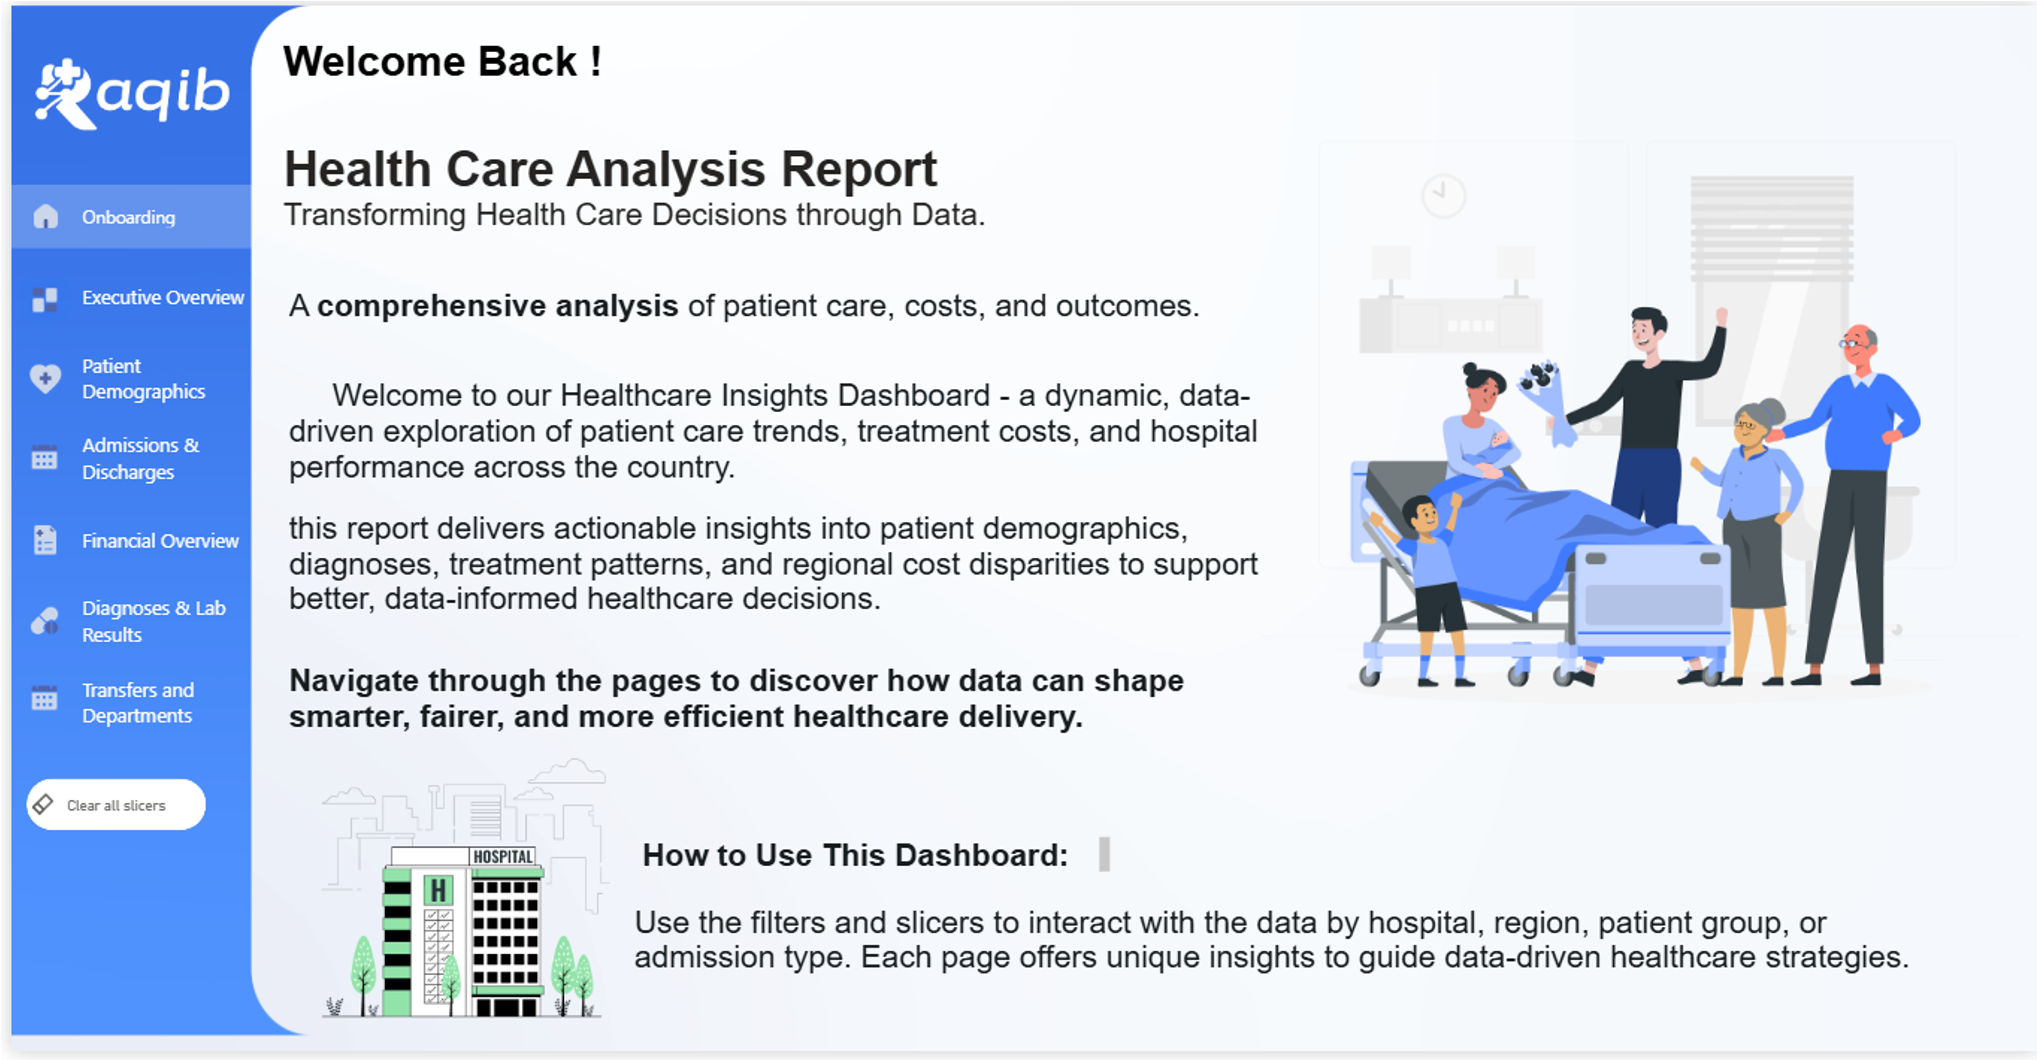

Layout of this report page (visuals, bound fields, positions):
{"tool":"powerbi","page":{"name":"Onboarding","canvas":[1550,800],"ordinal":0},"visuals":[{"type":"image","box":[0,0,201.2,788.9],"z":500},{"type":"textbox","box":[203.4,20.6,606.5,64.9],"z":1000},{"type":"actionButton","box":[11.9,591.7,137.7,39.7],"z":3000},{"type":"group","id":"g1","title":"Group 3","box":[11.6,133.6,149.3,426.7],"z":4000},{"type":"group","id":"g2","title":"Group 1","box":[13.6,219.1,35.4,34.1],"z":4000,"group":"g1"},{"type":"shape","box":[0,138.3,160,48.3],"z":5000},{"type":"image","box":[12.9,149.2,36.9,28.5],"z":5000,"group":"g1"},{"type":"image","box":[10,0,140,113.3],"z":6000},{"type":"textbox","box":[203.3,98.3,606.7,101.7],"z":7000},{"type":"image","box":[11.6,294.5,39.5,31.4],"z":7000,"group":"g1"},{"type":"textbox","box":[206.7,211.7,770,51.7],"z":8000},{"type":"image","box":[12.5,367.2,37.7,27.7],"z":8000,"group":"g1"},{"type":"shape","box":[13.6,219.1,33.9,33.5],"z":9000,"group":"g2"},{"type":"textbox","box":[206.7,280,770,101.7],"z":9000},{"type":"image","box":[15.6,436.3,31.5,33.1],"z":9000,"group":"g1"},{"type":"image","box":[17.5,221.7,26.8,28.4],"z":9500,"group":"g2"},{"type":"textbox","box":[206.7,381.7,770,101.7],"z":10000},{"type":"image","box":[18.3,510.8,26.2,38.5],"z":10000,"group":"g1"},{"type":"textbox","box":[206.7,498.3,770,65],"z":11000},{"type":"image","box":[943.3,98.3,606.7,441.7],"z":12000},{"type":"image","box":[161.7,571.7,371.7,221.7],"z":13000},{"type":"textbox","box":[476.7,631.7,368.3,36.7],"z":14000},{"type":"textbox","box":[471.7,683.3,1008.3,101.7],"z":15000},{"type":"pageNavigator","box":[54.5,133.6,106.3,426.7],"z":55000,"group":"g1"}]}

Visuals, with their boxes in screenshot pixels (x1, y1, x2, y2), scaled from the page's 1550x800 canvas onto the 2038x1060 screenshot:
image: select_region(0, 0, 265, 1045)
textbox: select_region(267, 27, 1065, 113)
actionButton: select_region(16, 784, 197, 837)
"Group 3" group: select_region(15, 177, 212, 742)
"Group 1" group: select_region(18, 290, 64, 335)
shape: select_region(0, 183, 210, 247)
image: select_region(17, 198, 65, 235)
image: select_region(13, 0, 197, 150)
textbox: select_region(267, 130, 1065, 265)
image: select_region(15, 390, 67, 432)
textbox: select_region(272, 281, 1284, 349)
image: select_region(16, 487, 66, 523)
shape: select_region(18, 290, 62, 335)
textbox: select_region(272, 371, 1284, 506)
image: select_region(21, 578, 62, 622)
image: select_region(23, 294, 58, 331)
textbox: select_region(272, 506, 1284, 641)
image: select_region(24, 677, 59, 728)
textbox: select_region(272, 660, 1284, 746)
image: select_region(1240, 130, 2037, 716)
image: select_region(213, 758, 701, 1051)
textbox: select_region(627, 837, 1111, 886)
textbox: select_region(620, 905, 1946, 1040)
pageNavigator: select_region(72, 177, 211, 742)
